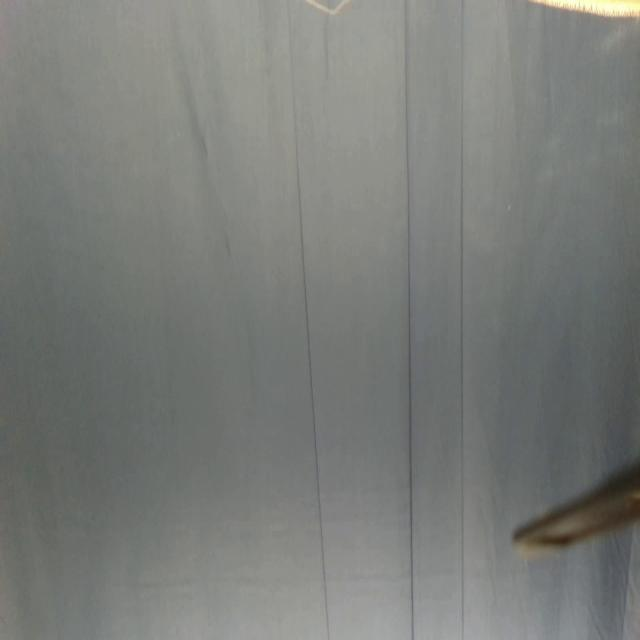crease: (286, 2, 331, 636), (402, 1, 416, 640), (460, 0, 468, 640), (619, 524, 637, 640)
